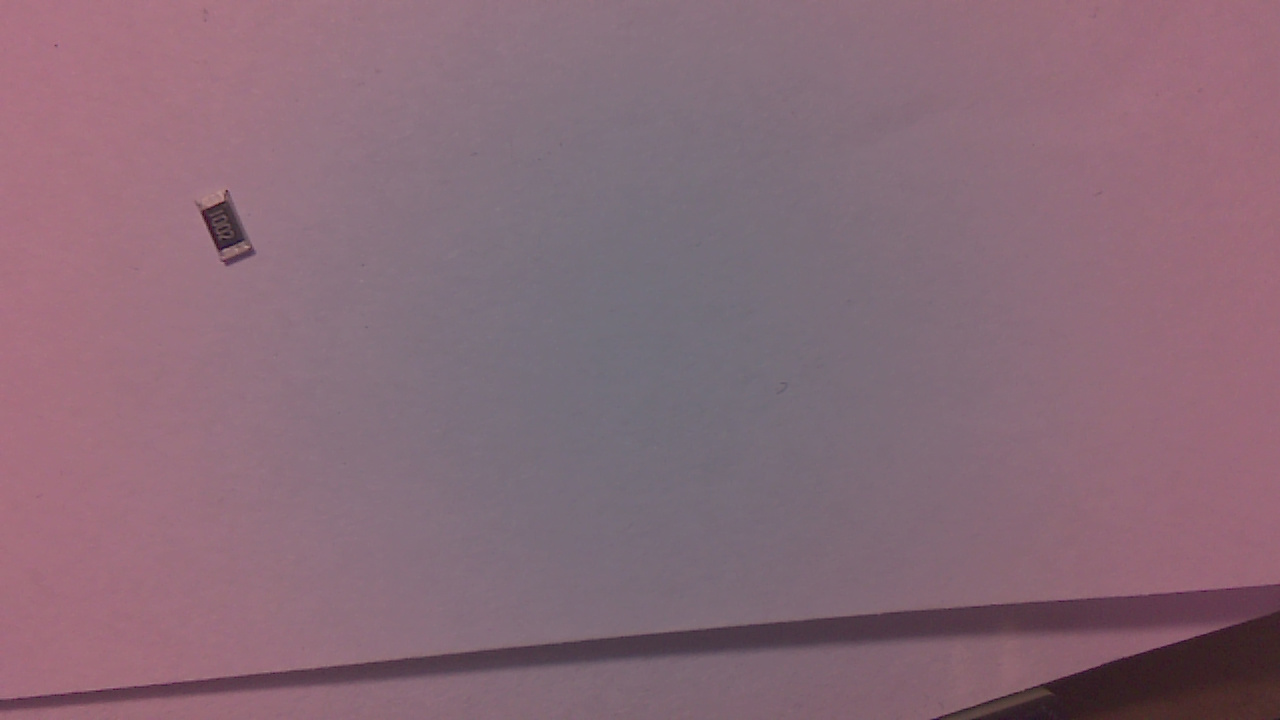Resistor: (201, 191, 261, 272)
